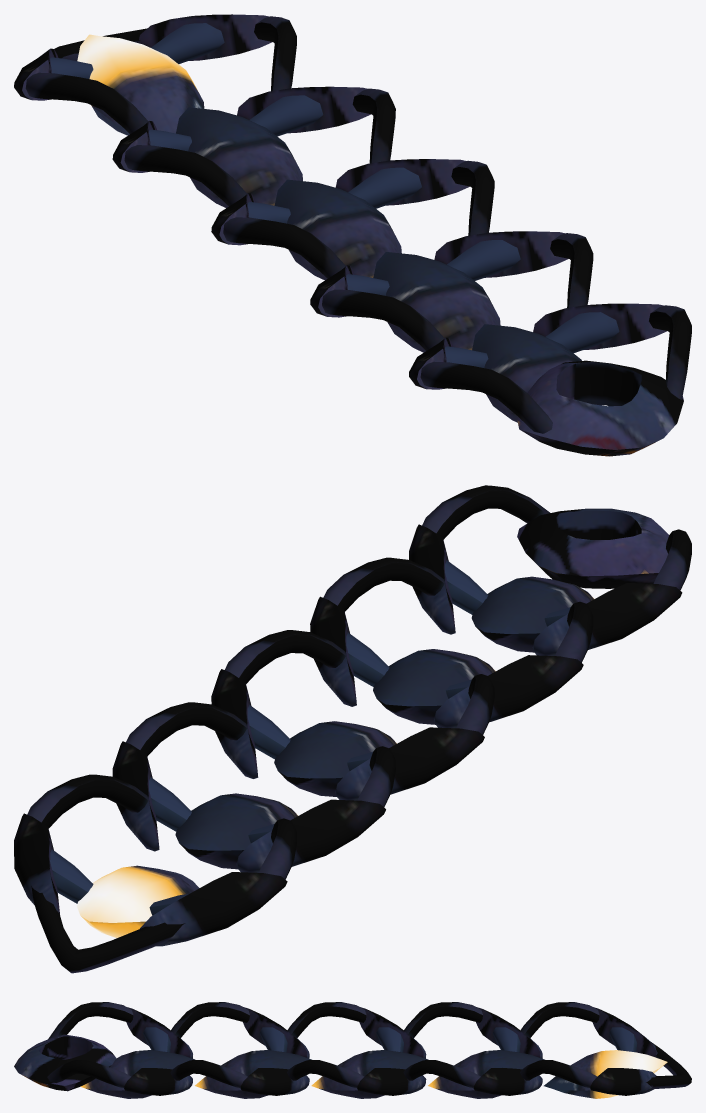
File: ship18i.fbx
3 renders of one model, top to bottom at view 1: azimuth 30°, elevation 25°; view 2: azimuth 150°, elevation 25°; view 3: azimuth 270°, elevation 25°, orthographic. The views are drawn at different scales.
Visible parts, largest first — view 1: PipelineFBX; view 2: PipelineFBX; view 3: PipelineFBX.
Part boxes in pixels (<box>): PipelineFBX: <box>14,14,691,456</box>; PipelineFBX: <box>14,485,691,973</box>; PipelineFBX: <box>14,1002,691,1098</box>.
Bounding box in the file's own units: 146 × 55.26 × 545.
Materials: 1 (1 with a texture image).
